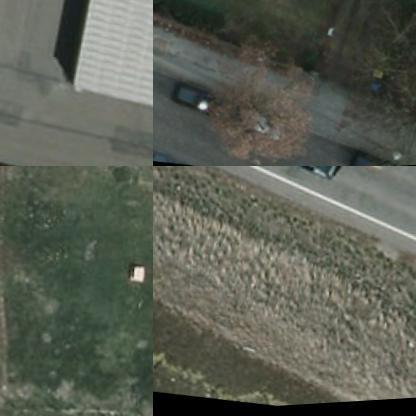car: (160, 78, 226, 126), (220, 100, 286, 144), (259, 166, 342, 185), (338, 143, 397, 165)
